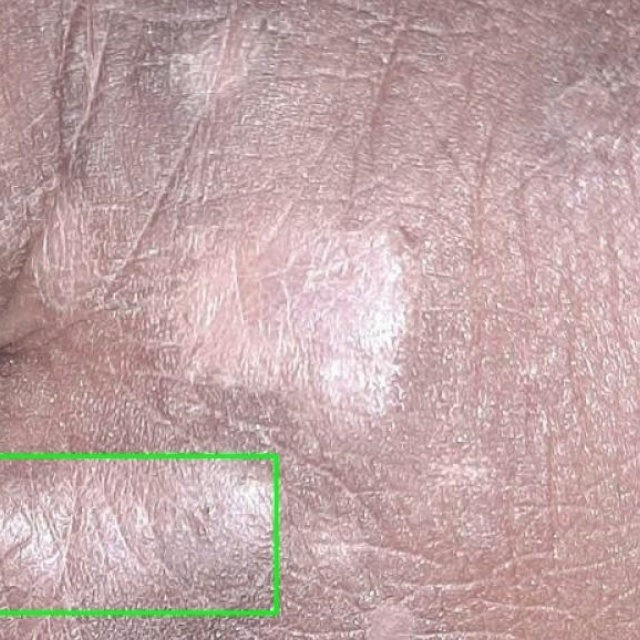Eczema: (0, 456, 276, 612)
